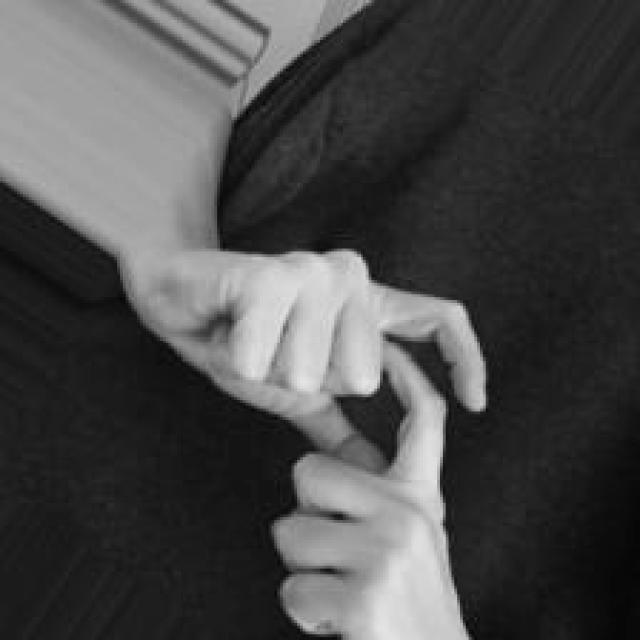G: (126, 237, 495, 640)
